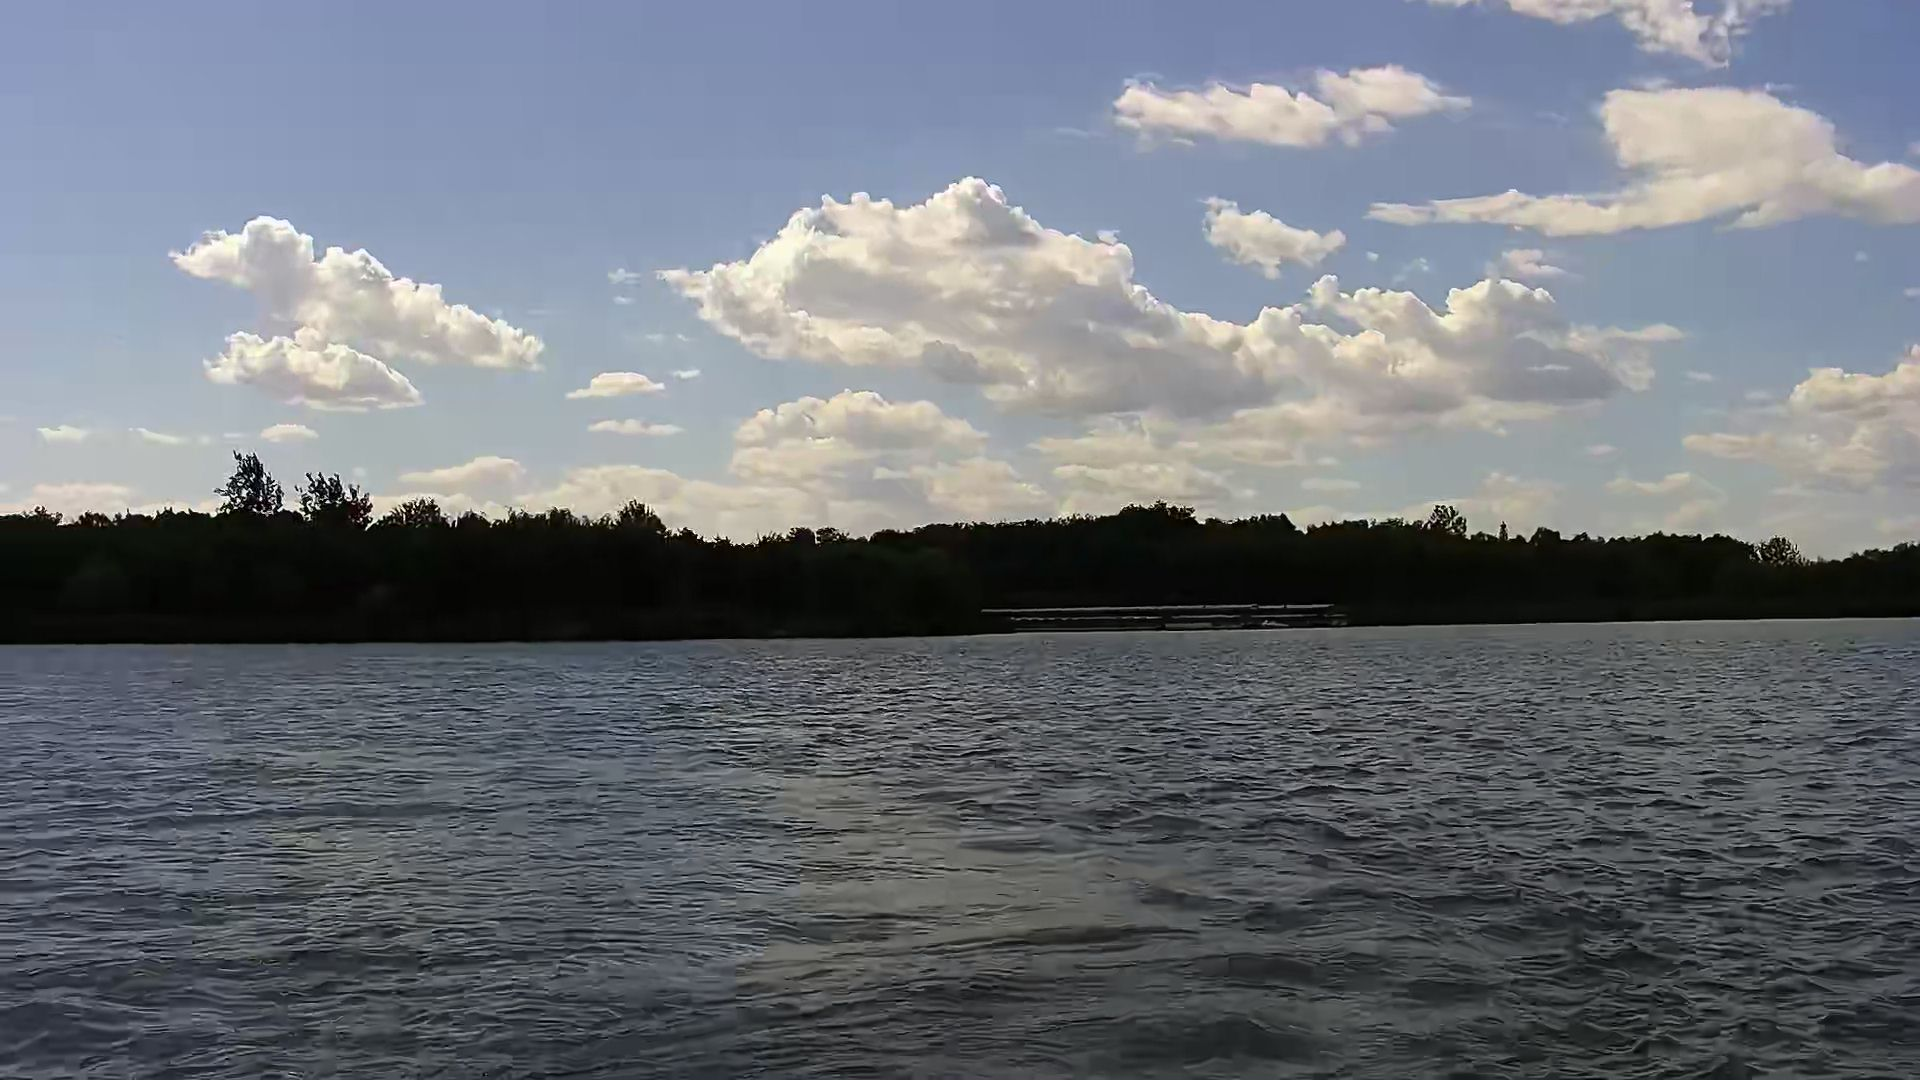harbor: (982, 604, 1346, 636)
